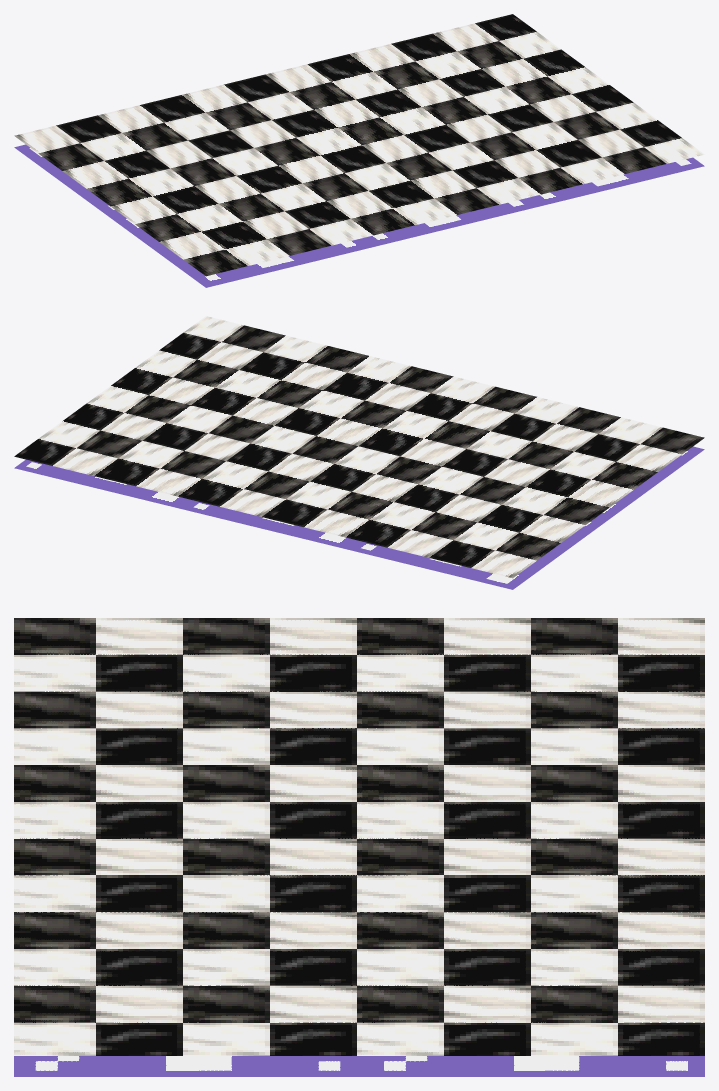
The model's file is TrophyRace.glb.
The picture shows the model from 3 angles, top to bottom: view 1: azimuth 30°, elevation 25°; view 2: azimuth 150°, elevation 25°; view 3: azimuth 270°, elevation 25°; orthographic projection. The views are drawn at different scales.
Visible parts, largest first — view 1: TrophyRace_Alpha_1, TrophyRace_Alpha_0; view 2: TrophyRace_Alpha_1, TrophyRace_Alpha_0; view 3: TrophyRace_Alpha_1, TrophyRace_Alpha_0.
Part boxes in pixels (x1,y1,x2,y2): TrophyRace_Alpha_1: [14, 14, 704, 276]; TrophyRace_Alpha_0: [14, 144, 704, 287]; TrophyRace_Alpha_1: [14, 316, 704, 578]; TrophyRace_Alpha_0: [14, 446, 704, 589]; TrophyRace_Alpha_1: [14, 618, 704, 1055]; TrophyRace_Alpha_0: [14, 1056, 704, 1076].
Bounding box in the file's own units: 360 × 8 × 240.
2 materials, 2 textured.
